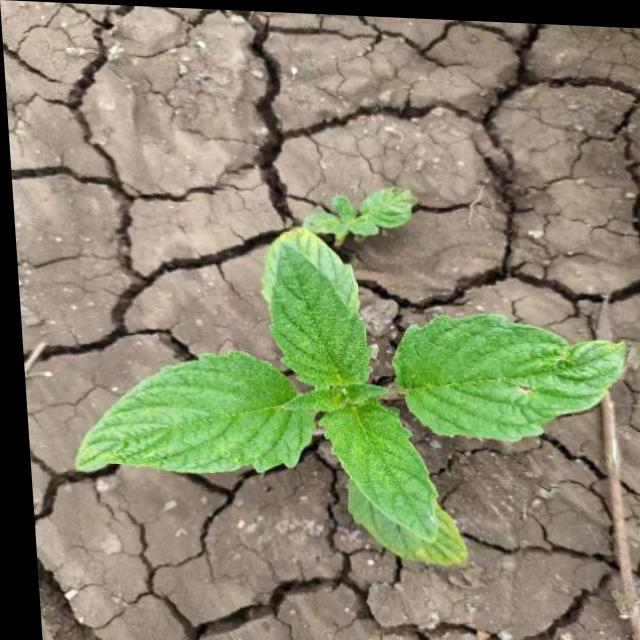crop: (63, 224, 640, 585)
